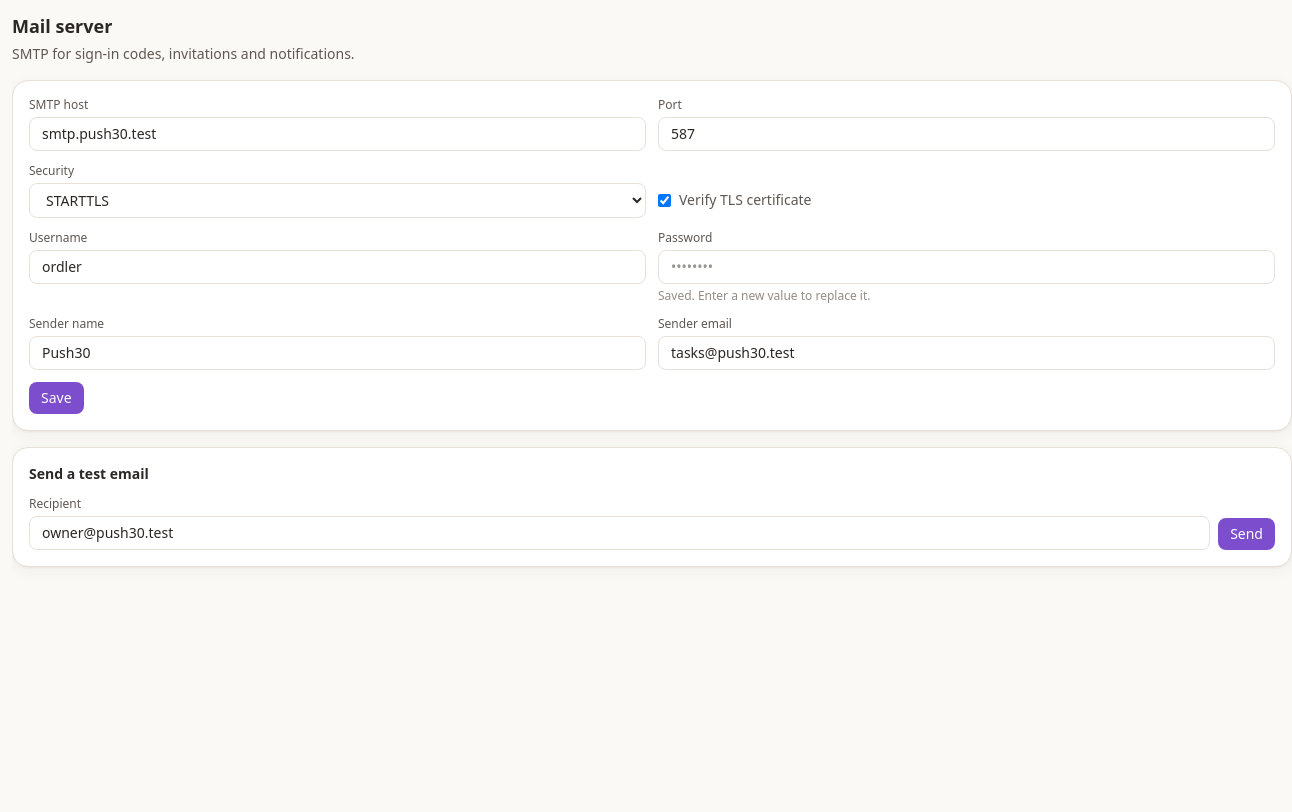
Scenario: MailSection › keeps the stored password when the field is left empty
Click the button "Save".
click(56, 398)  # box [29, 382, 84, 414]
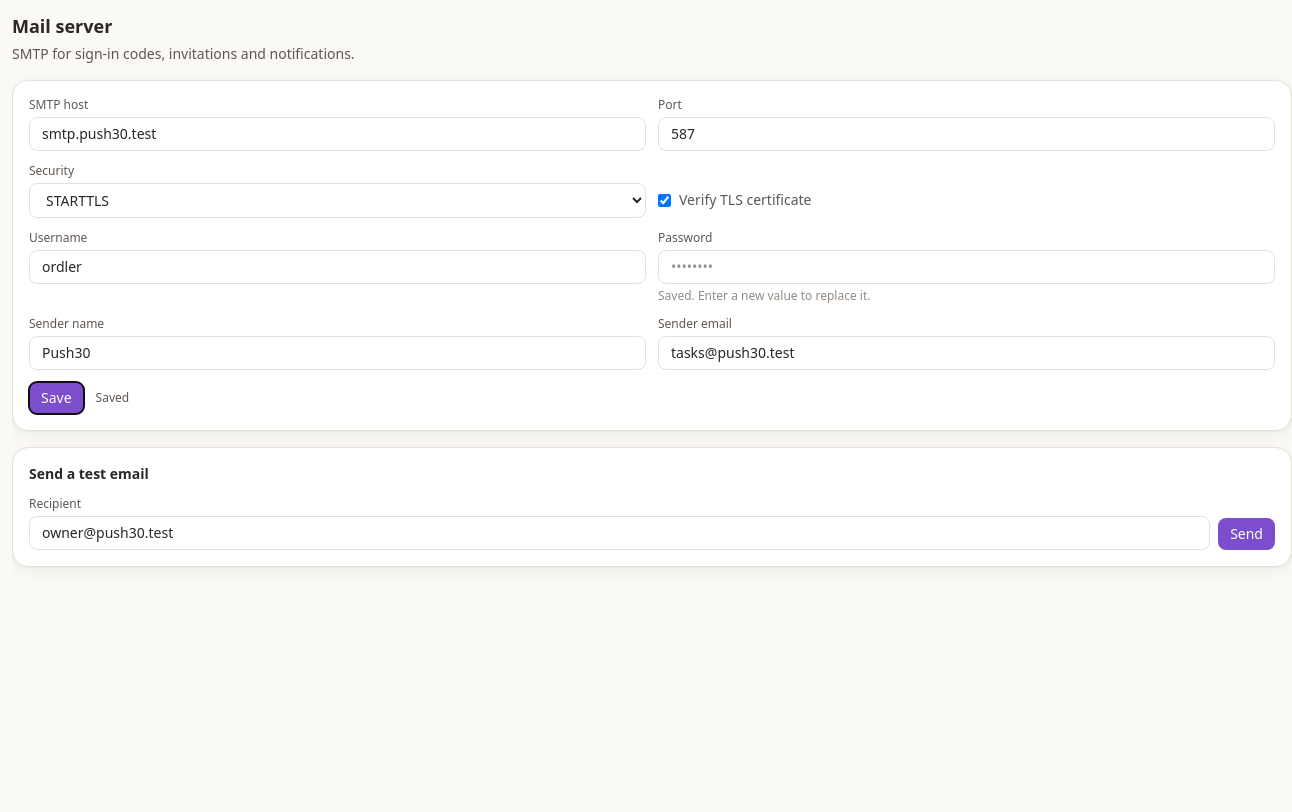
Check: the message "Saved" is shown, box [96, 390, 129, 406]
